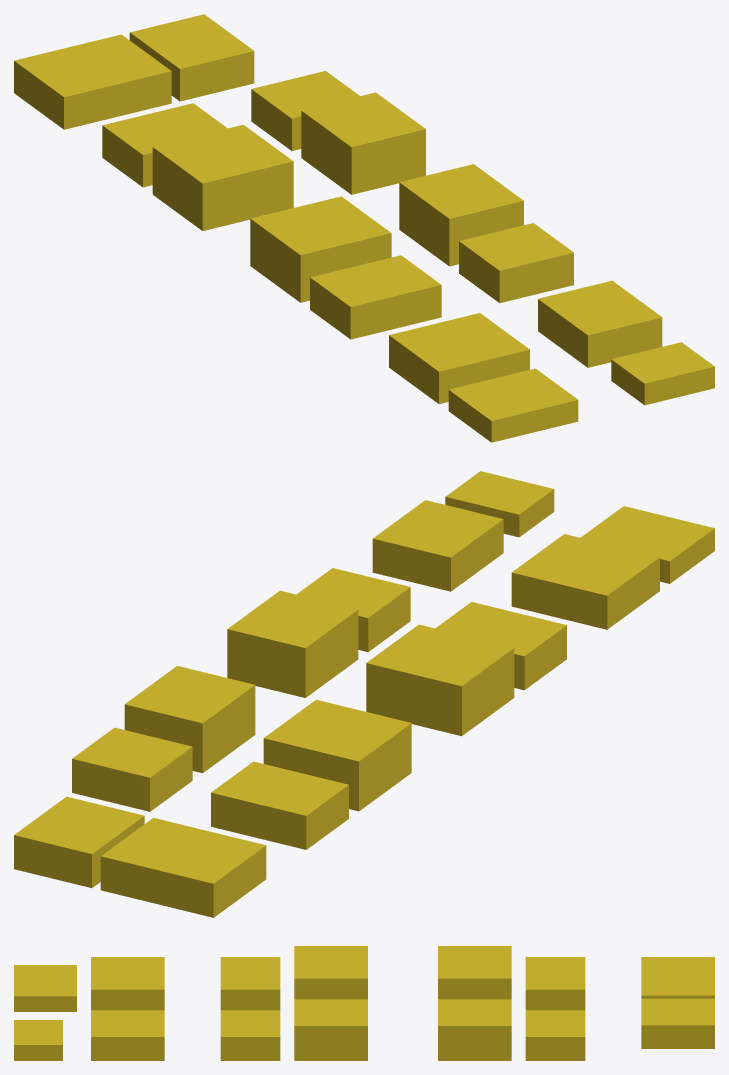
File: 05_Industria.glb
3 views of the same model, one above another, from view 1: azimuth 30°, elevation 25°; view 2: azimuth 150°, elevation 25°; view 3: azimuth 270°, elevation 25° (orthographic). The views are drawn at different scales.
Parts seen in each view (by area): view 1: I_Alta_001, I_Media_005, I_Alta_002, I_Alta_003, I_Alta_004, I_Media_003, I_Media_001, I_Media_004, I_Media_006, I_Media_002, I_Baja_002, I_Media_007 (+2 smaller); view 2: I_Alta_003, I_Media_005, I_Alta_004, I_Alta_001, I_Media_003, I_Alta_002, I_Media_007, I_Media_004, I_Media_008, I_Media_006, I_Media_001, I_Baja_002 (+2 smaller); view 3: I_Alta_002, I_Alta_004, I_Media_003, I_Alta_001, I_Alta_003, I_Media_004, I_Media_006, I_Media_001, I_Media_007, I_Media_002, I_Media_008, I_Media_005 (+2 smaller).
Boxes of the visible parts, x1,y1,x2,y2 form: I_Alta_001: (152,124,293,230); I_Media_005: (14,34,171,129); I_Alta_002: (301,92,425,194); I_Alta_003: (250,196,391,302); I_Alta_004: (399,164,523,266); I_Media_003: (389,313,529,404); I_Media_001: (310,255,441,339); I_Media_004: (538,280,662,367); I_Media_006: (129,14,254,101); I_Media_002: (459,223,573,303); I_Baja_002: (448,368,578,442); I_Media_007: (102,103,227,187); I_Alta_003: (366,624,514,736); I_Media_005: (100,818,266,917); I_Alta_004: (227,590,358,697); I_Alta_001: (263,699,411,811); I_Media_003: (511,534,659,629); I_Alta_002: (124,666,255,773); I_Media_007: (211,761,348,849); I_Media_004: (372,500,503,591); I_Media_008: (72,727,192,811); I_Media_006: (14,796,144,887); I_Media_001: (435,602,566,690); I_Baja_002: (580,506,714,583); I_Alta_002: (438,999,511,1060); I_Alta_004: (294,999,367,1060); I_Media_003: (91,957,164,1010); I_Alta_001: (438,946,511,999); I_Alta_003: (294,946,367,999); I_Media_004: (91,1010,164,1060); I_Media_006: (641,998,714,1048); I_Media_001: (220,957,280,1010); I_Media_007: (525,957,585,1010); I_Media_002: (220,1010,280,1060); I_Media_008: (525,1010,585,1060); I_Media_005: (641,957,714,998).
Bounding box in the file's own units: 108 × 22 × 400.
